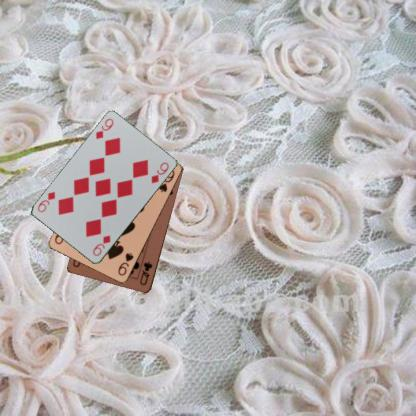9d: (90, 233, 112, 258), (93, 116, 115, 141)
9s: (116, 250, 134, 278)
Qc: (138, 260, 154, 286)
